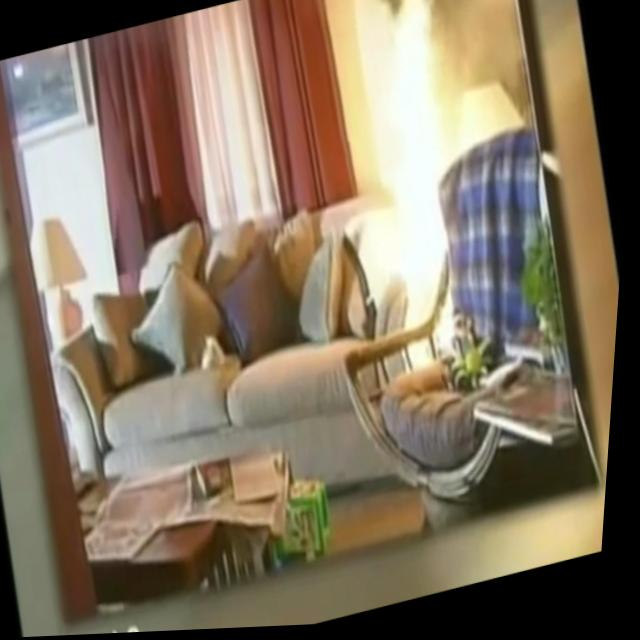fire: (316, 0, 515, 384)
